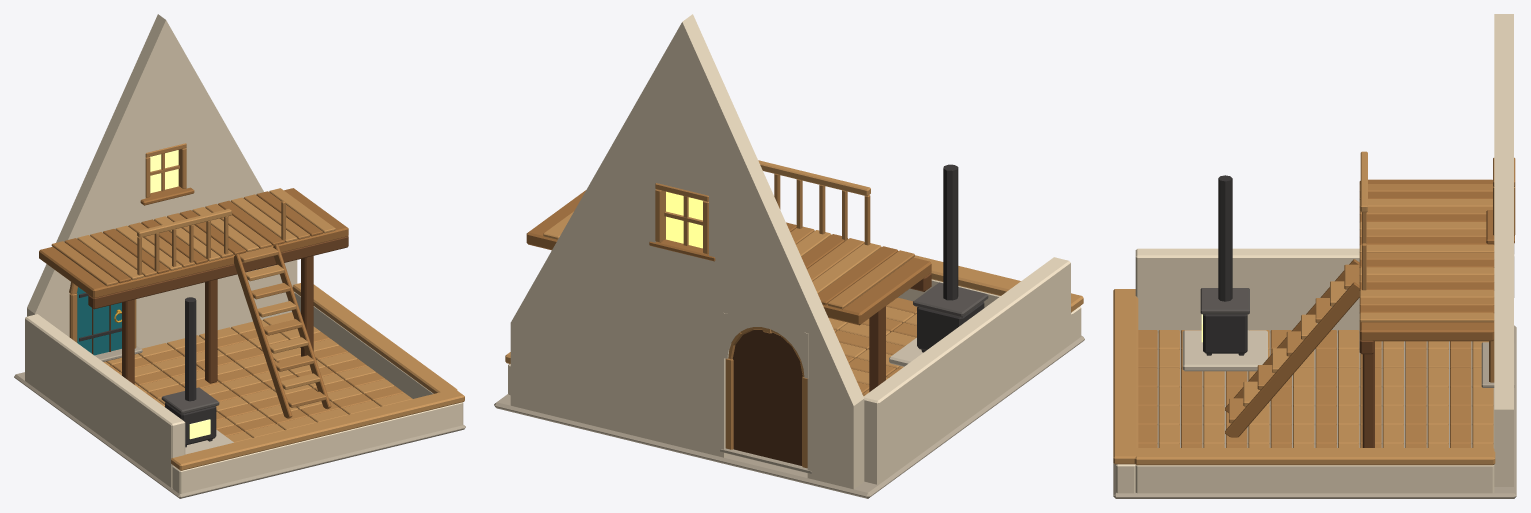
File: aframe_cabin_interior.glb
The picture shows the model from 3 angles, left to right: view 1: azimuth 30°, elevation 25°; view 2: azimuth 150°, elevation 25°; view 3: azimuth 270°, elevation 25°; orthographic projection. The views are drawn at different scales.
Visible parts, largest first — view 1: aframe_cabin_interior, part_door_leaf; view 2: aframe_cabin_interior; view 3: aframe_cabin_interior.
Boxes of the visible parts, box(x1,y1,x2,y2) form: aframe_cabin_interior: box(14, 14, 465, 498); part_door_leaf: box(77, 287, 121, 355); aframe_cabin_interior: box(494, 14, 1084, 498); aframe_cabin_interior: box(1113, 14, 1516, 498).
Size of the model in its own units: 4.5 by 4.93 by 4.5.
